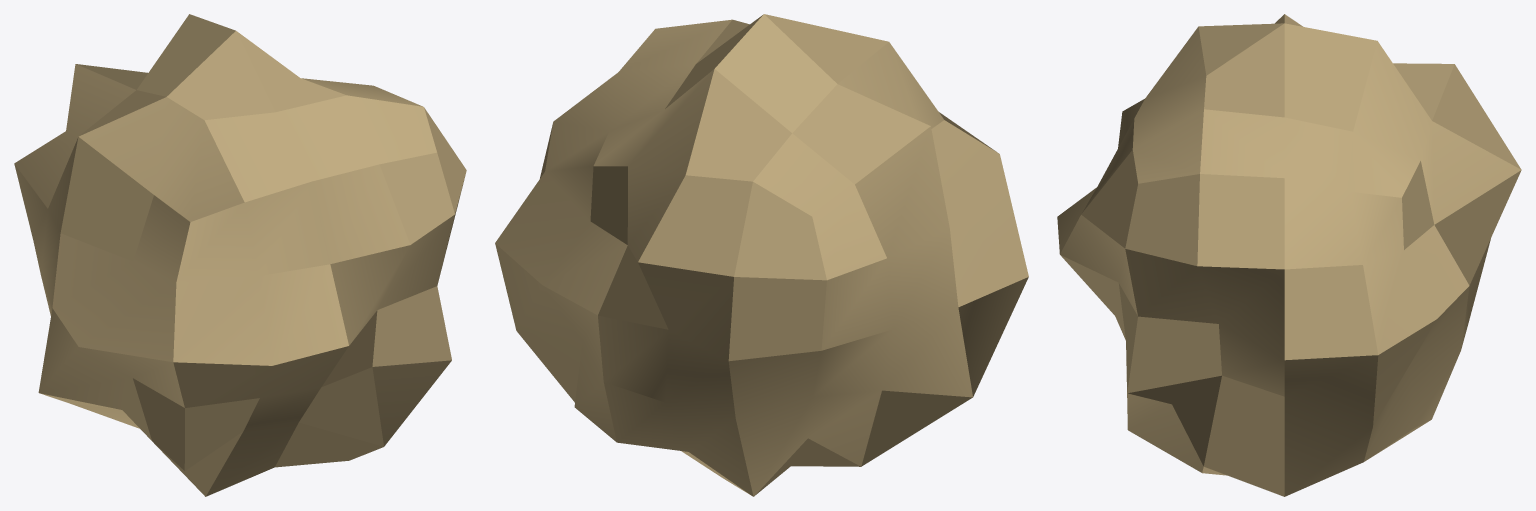
Rendered from crumb.fbx.
3 views of the same model, side by side, from view 1: azimuth 30°, elevation 25°; view 2: azimuth 150°, elevation 25°; view 3: azimuth 270°, elevation 25° (orthographic). The views are drawn at different scales.
Parts seen in each view (by area): view 1: crumb; view 2: crumb; view 3: crumb.
Part boxes in pixels (x1=…): crumb: x1=14, y1=14, x2=466, y2=496; crumb: x1=495, y1=14, x2=1028, y2=496; crumb: x1=1057, y1=14, x2=1521, y2=496.
Size of the model in its own units: 33.58 by 32.33 by 32.22.
